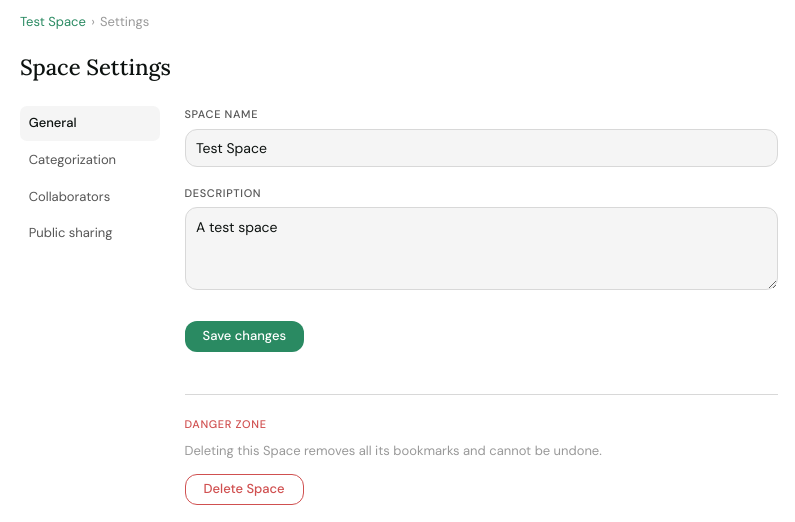
Test: SpaceSettings › Collaborators section › clicking Collaborators tab shows collaborators section
Click the button "Collaborators" at x=90, y=197, box [20,180,160,214]
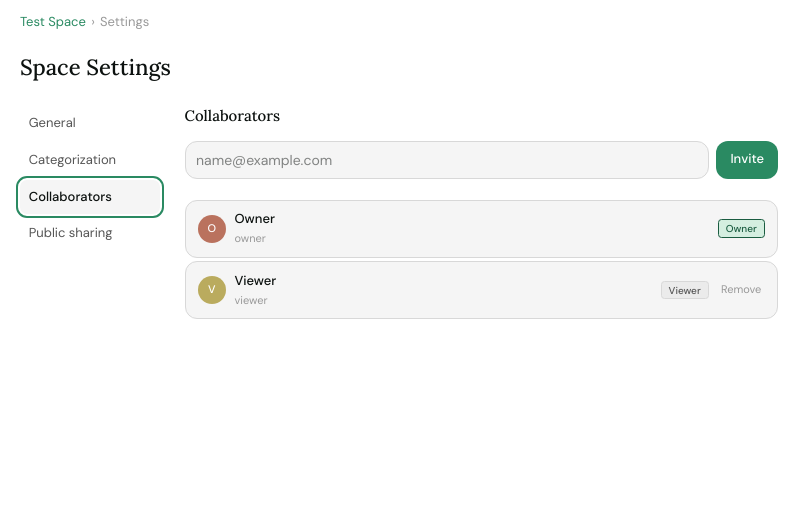
Check: the heading "Collaborators" is shown, box [184,106,280,126]
